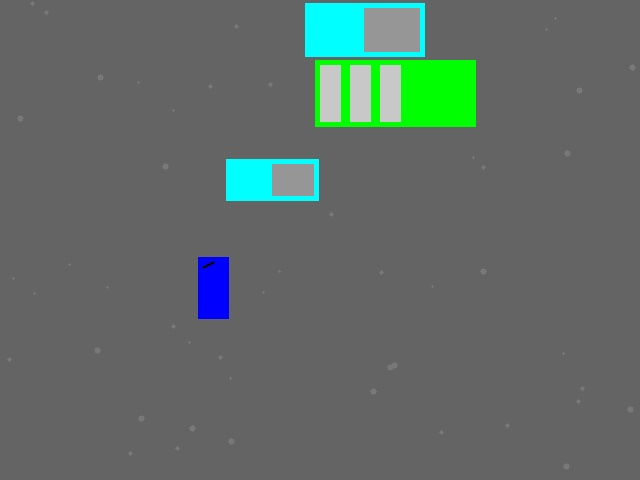bus: (315, 60, 475, 126)
motorcycle: (198, 257, 228, 318)
truck: (305, 3, 424, 56), (226, 159, 318, 200)
